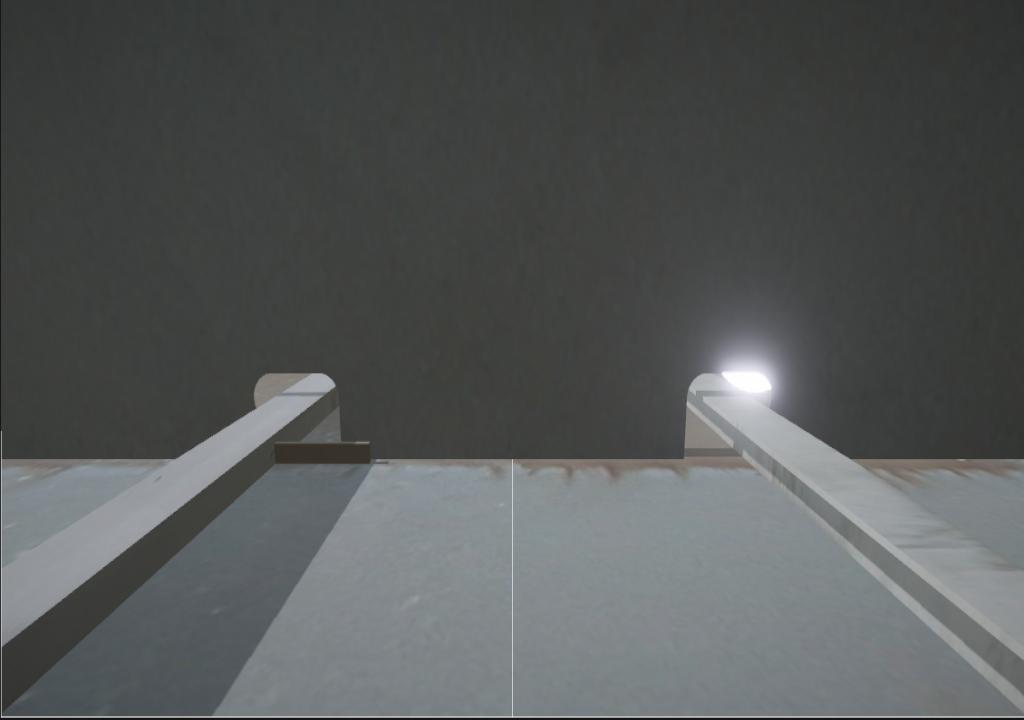fillet_yong_jeop_jang: (372, 451, 690, 464)
plate_CP01: (274, 442, 370, 465)
